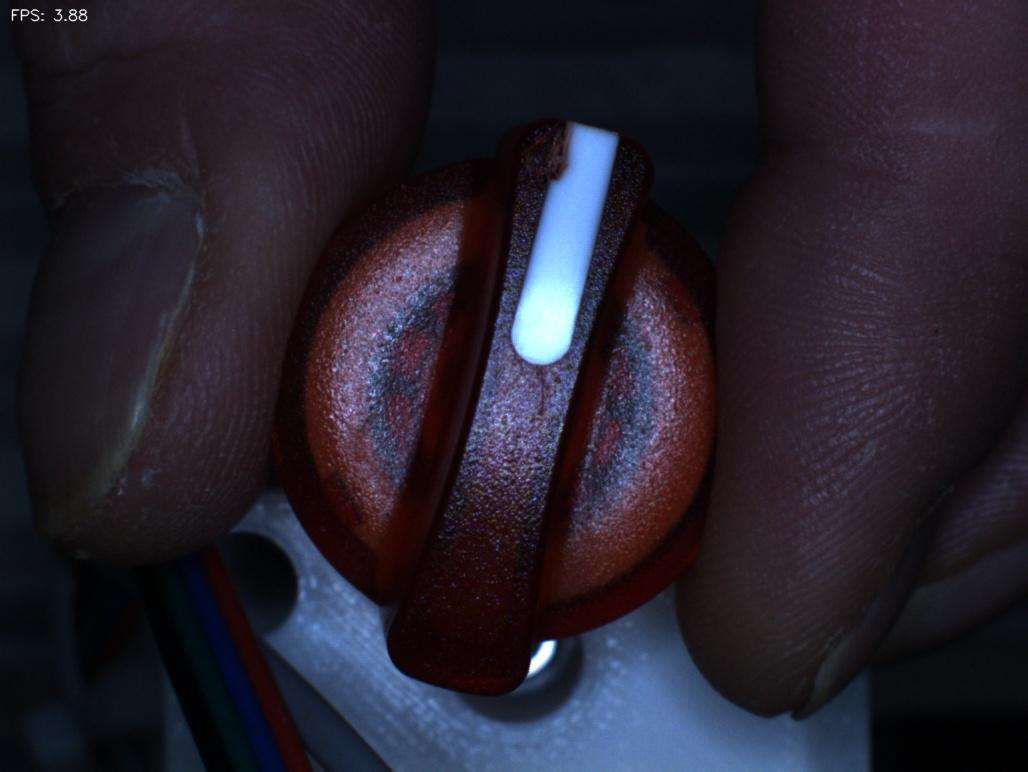Choc: (516, 101, 605, 207)
